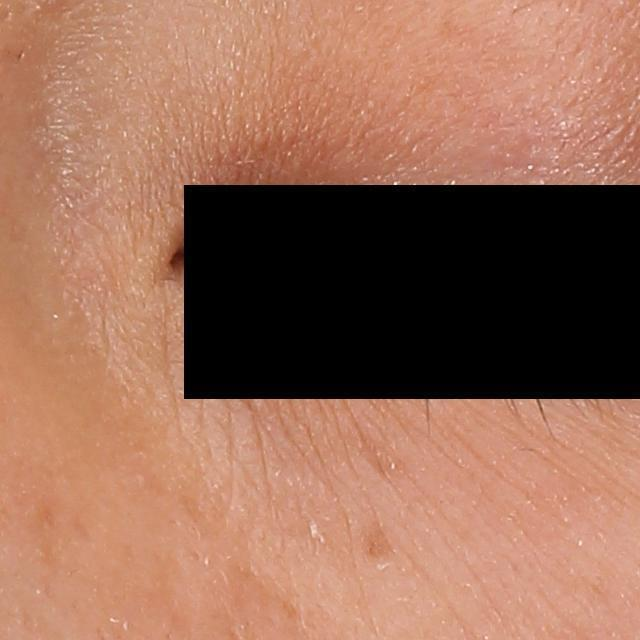melasma: (354, 520, 402, 564)
